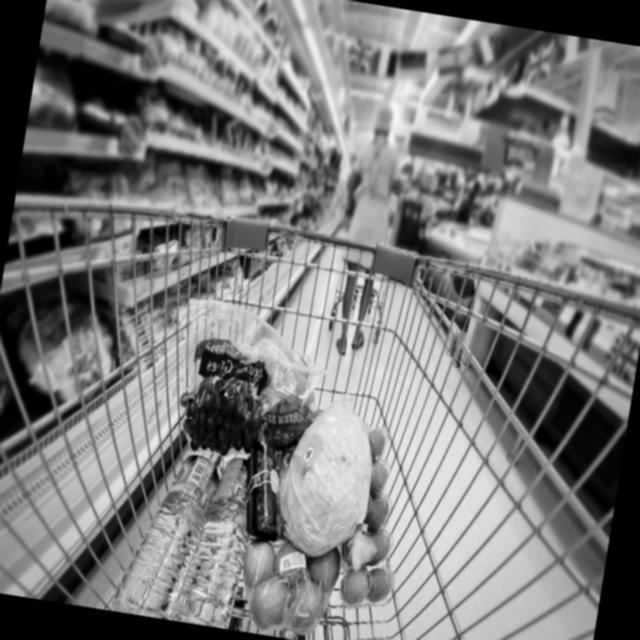bap cai: (270, 400, 378, 566)
nho: (166, 328, 280, 472)
tao: (232, 526, 343, 636)
trung: (333, 420, 419, 612)
